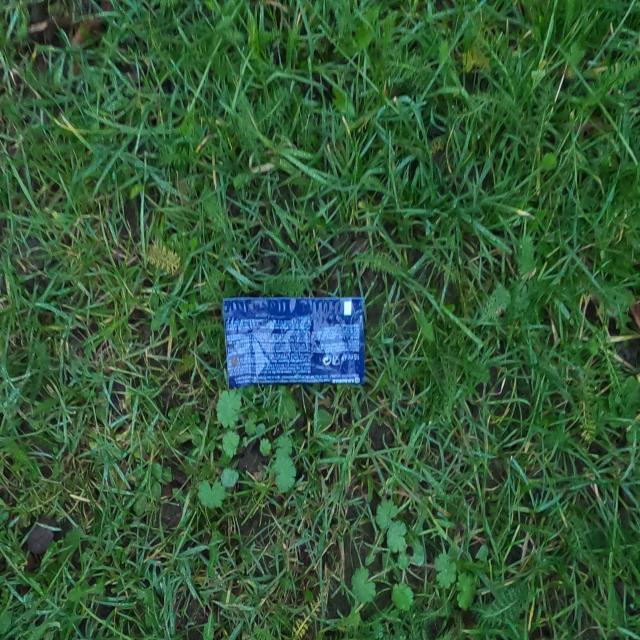Plastic: (219, 292, 366, 392)
